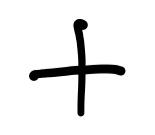plus: (30, 19, 126, 116)
